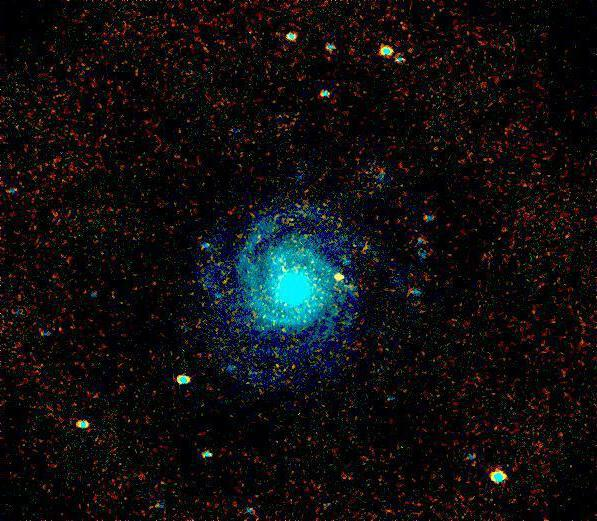star: (324, 259, 354, 289)
